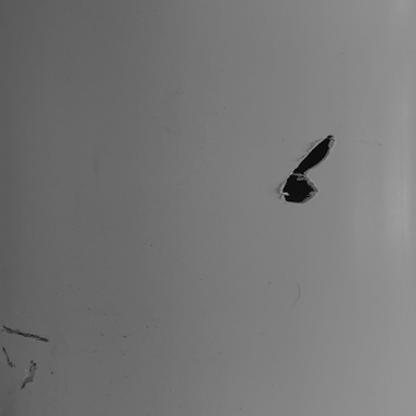fengxi: (1, 326, 53, 346), (19, 360, 40, 390), (1, 347, 15, 369)
kongdong: (278, 133, 339, 206)
